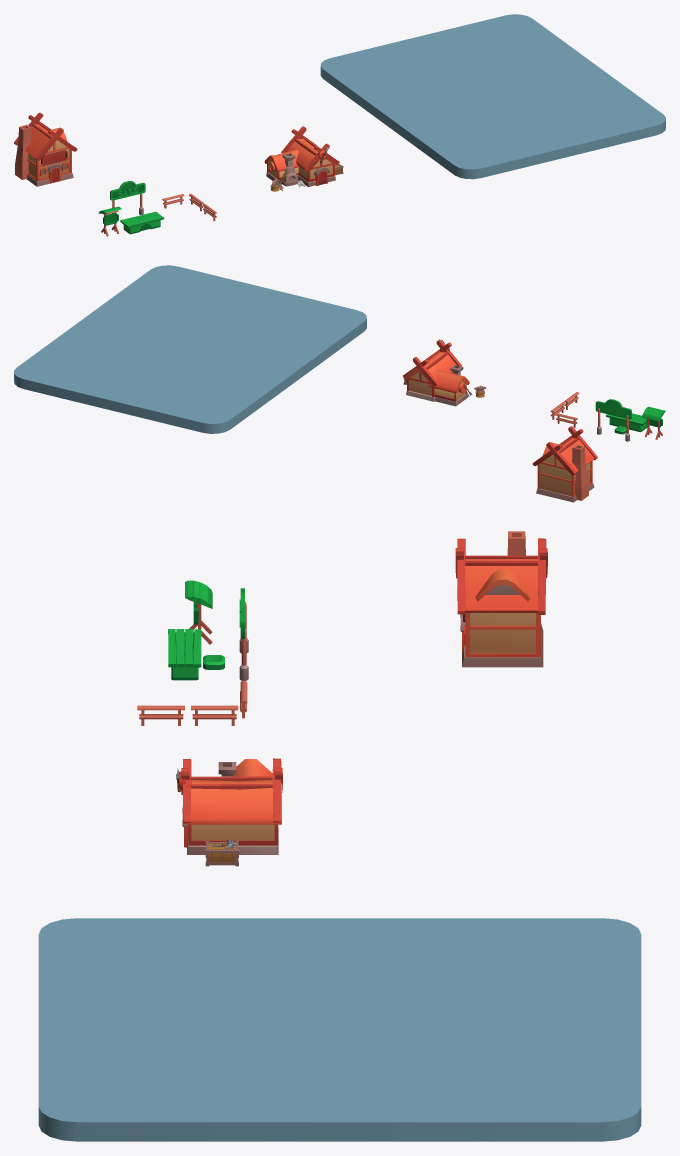
File: Map Unity  (7).fbx
The picture shows the model from 3 angles, top to bottom: view 1: azimuth 30°, elevation 25°; view 2: azimuth 150°, elevation 25°; view 3: azimuth 270°, elevation 25°; orthographic projection. The views are drawn at different scales.
Visible parts, largest first — view 1: Plane.051, Cube.029, Cube.126, Cube.027, Cube.152, Cube.030, Cube.120, Cube.138, Cube.028; view 2: Plane.051, Cube.029, Cube.126, Cube.152, Cube.030, Cube.120, Cube.027, Cube.028; view 3: Plane.051, Cube.029, Cube.126, Cube.120, Cube.027, Cube.028.
Boxes of the visible parts, x1=… form: Plane.051: x1=320, y1=14, x2=665, y2=179; Cube.029: x1=14, y1=112, x2=77, y2=186; Cube.126: x1=281, y1=126, x2=339, y2=172; Cube.027: x1=120, y1=211, x2=164, y2=234; Cube.152: x1=264, y1=149, x2=299, y2=184; Cube.030: x1=110, y1=181, x2=145, y2=214; Cube.120: x1=298, y1=158, x2=335, y2=186; Cube.138: x1=282, y1=153, x2=298, y2=186; Cube.028: x1=98, y1=206, x2=121, y2=236; Plane.051: x1=14, y1=265, x2=366, y2=433; Cube.029: x1=532, y1=426, x2=597, y2=502; Cube.126: x1=403, y1=339, x2=462, y2=386; Cube.152: x1=428, y1=369, x2=469, y2=406; Cube.030: x1=595, y1=399, x2=631, y2=441; Cube.120: x1=406, y1=372, x2=435, y2=401; Cube.027: x1=606, y1=413, x2=647, y2=432; Cube.028: x1=642, y1=406, x2=665, y2=439; Plane.051: x1=38, y1=918, x2=641, y2=1141; Cube.029: x1=455, y1=531, x2=547, y2=667; Cube.126: x1=181, y1=758, x2=282, y2=824; Cube.120: x1=187, y1=824, x2=278, y2=854; Cube.027: x1=168, y1=629, x2=201, y2=680; Cube.028: x1=185, y1=580, x2=212, y2=644.
Size of the model in its own units: 15.99 by 1.53 by 7.8.
